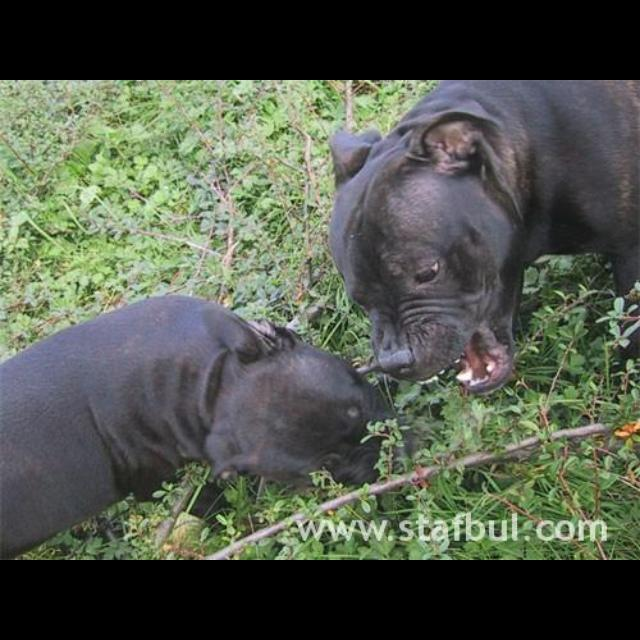staffford: (2, 294, 423, 560), (328, 81, 640, 399)
